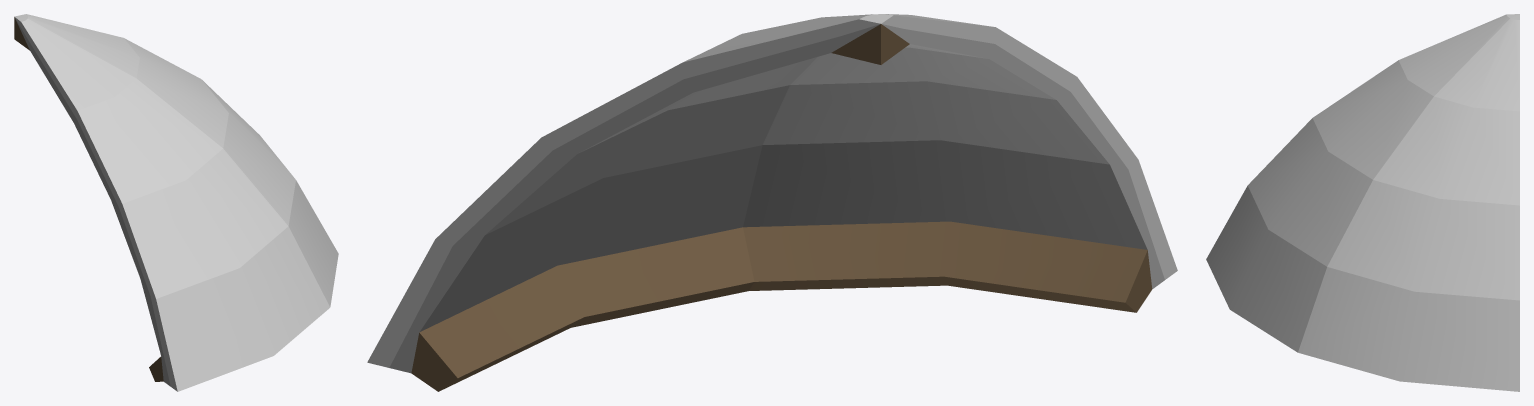
Rendered from SM_Bld_Roof_Dome_Corner_01.fbx.
3 renders of one model, left to right at view 1: azimuth 30°, elevation 25°; view 2: azimuth 150°, elevation 25°; view 3: azimuth 270°, elevation 25°, orthographic. The views are drawn at different scales.
Visible parts, largest first — view 1: SM_Bld_Roof_Dome_Corner_01; view 2: SM_Bld_Roof_Dome_Corner_01; view 3: SM_Bld_Roof_Dome_Corner_01.
Part boxes in pixels (x1,y1,x2,y2): SM_Bld_Roof_Dome_Corner_01: (14,14,338,391); SM_Bld_Roof_Dome_Corner_01: (367,14,1177,391); SM_Bld_Roof_Dome_Corner_01: (1206,14,1519,391).
Size of the model in its own units: 261 by 231 by 261.
